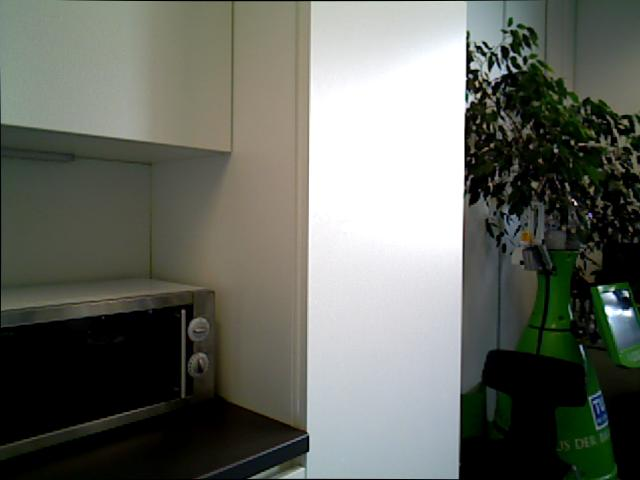carrot: (464, 16, 639, 310)
hot dog: (306, 0, 466, 479)
knife: (0, 276, 216, 462)
